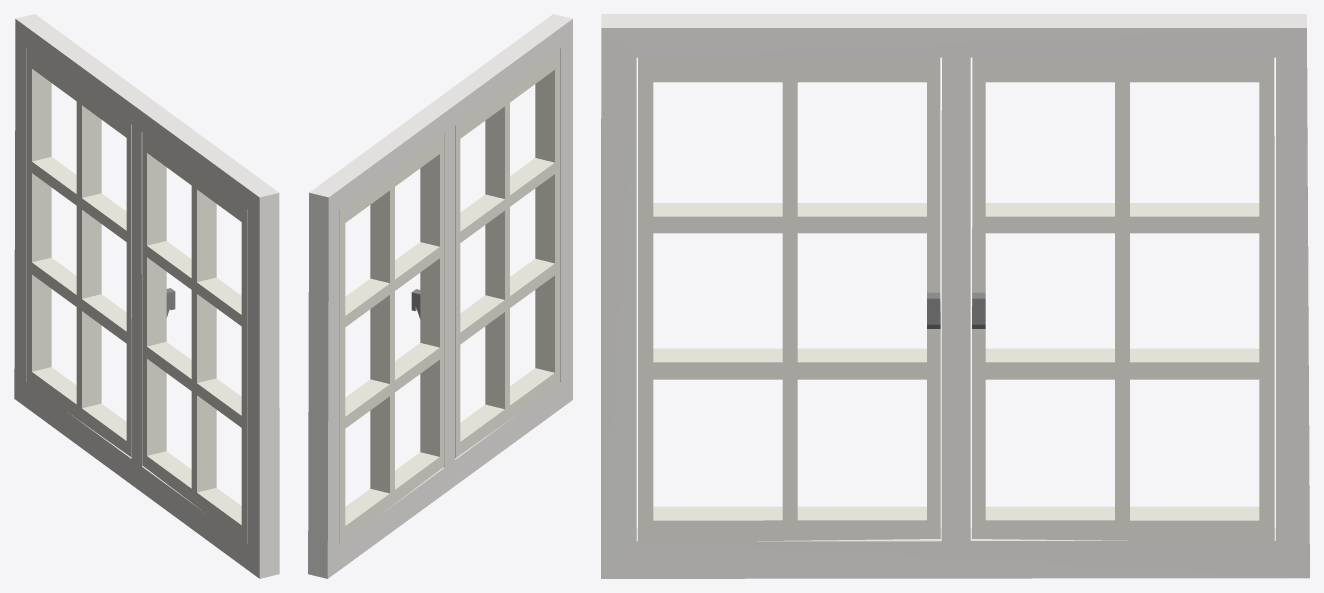
The model's file is Window_Closed.fbx.
3 renders of one model, left to right at view 1: azimuth 30°, elevation 25°; view 2: azimuth 150°, elevation 25°; view 3: azimuth 270°, elevation 25°, orthographic. The views are drawn at different scales.
Visible parts, largest first — view 1: pCube7; view 2: pCube7; view 3: pCube7.
Part boxes in pixels (x1,y1,x2,y2): pCube7: (14,14,279,578); pCube7: (308,14,572,578); pCube7: (601,14,1309,578).
Size of the model in its own units: 1.44 by 18.51 by 21.58.
